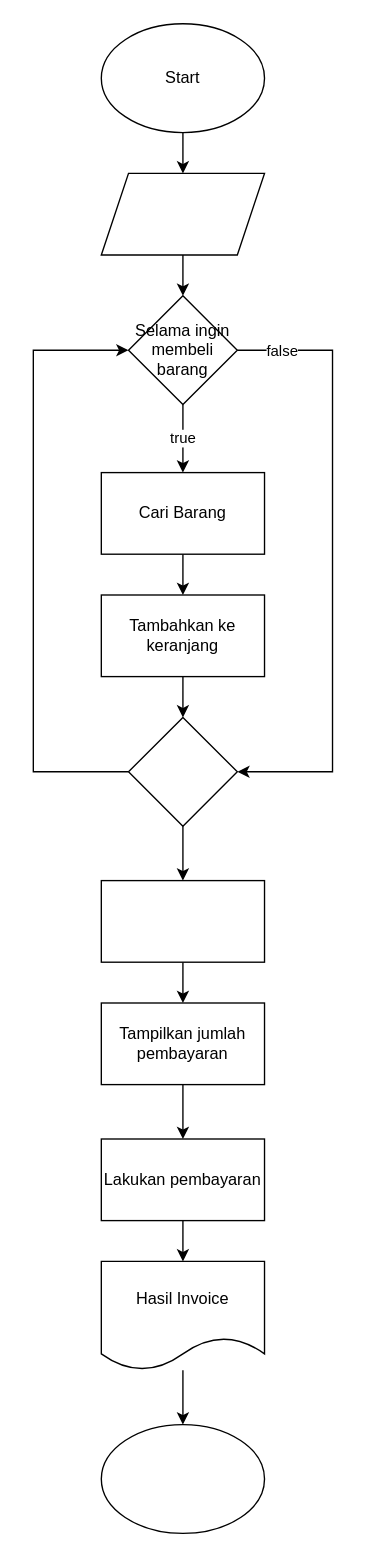
This 367x1557 diagram has some shape labels left out. Here are the shapes that lost their labels. From the top down, the centre of each, then its label:
(182,213): Open Toko Arya App
(182,920): Hitung jumlah pembayaran
(182,1478): End
